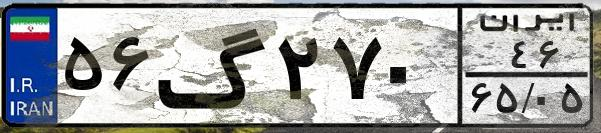0: (385, 28, 445, 110), (535, 70, 560, 125)
2: (270, 28, 330, 110)
4: (508, 27, 537, 80)
5: (57, 26, 110, 100), (560, 70, 590, 125), (495, 70, 520, 125)
6: (110, 28, 156, 98), (537, 27, 568, 80), (470, 70, 495, 125)
7: (330, 28, 385, 110)
گ: (156, 12, 270, 120)
